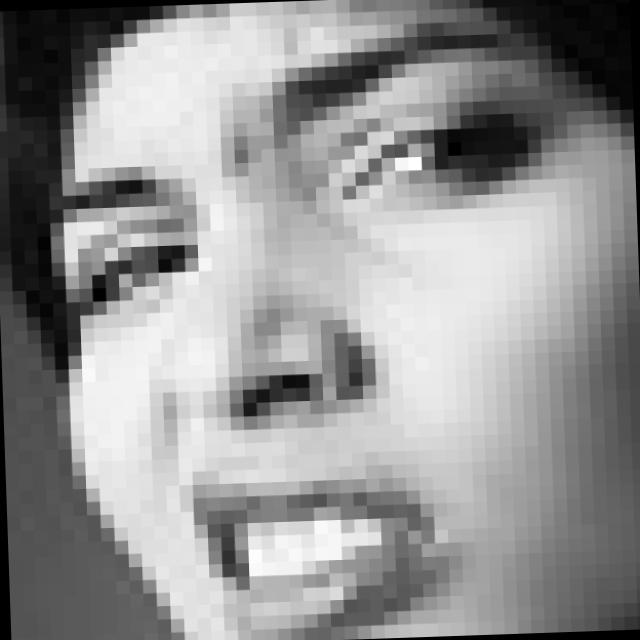disgust: (54, 17, 553, 640)
